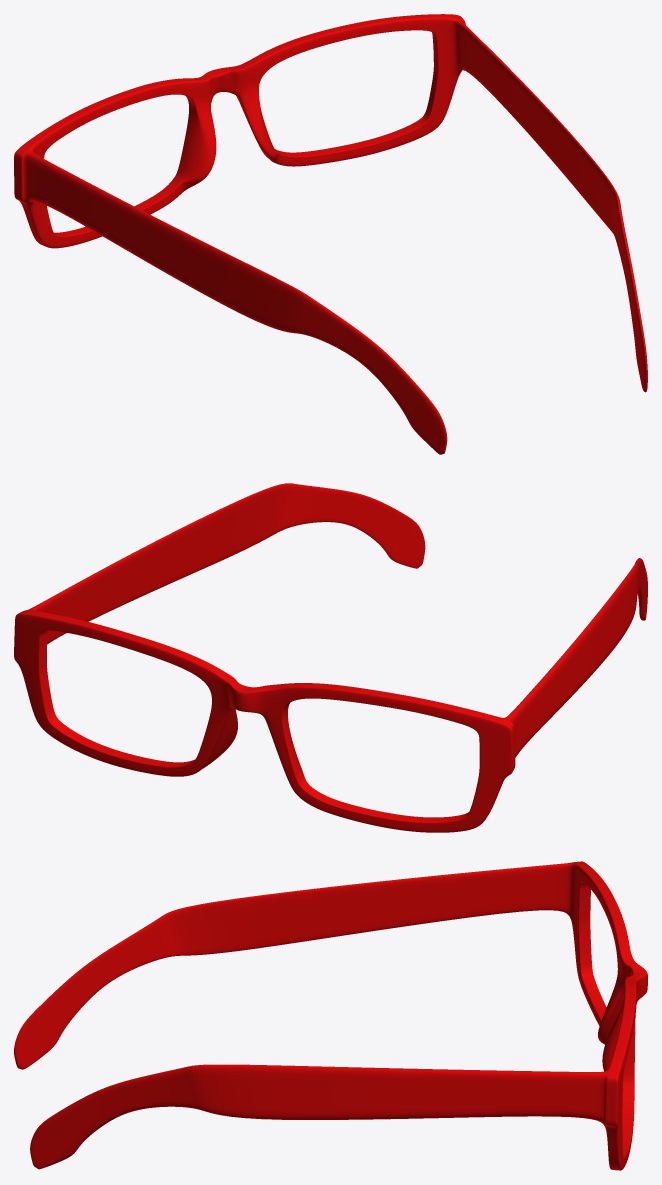
3 renders of one model, top to bottom at view 1: azimuth 30°, elevation 25°; view 2: azimuth 150°, elevation 25°; view 3: azimuth 270°, elevation 25°, orthographic. The views are drawn at different scales.
Visible parts, largest first — view 1: Glasses:glassesframeHyperNURBSCube4Cube; view 2: Glasses:glassesframeHyperNURBSCube4Cube; view 3: Glasses:glassesframeHyperNURBSCube4Cube.
Boxes of the visible parts, box(x1,y1,x2,y2) form: Glasses:glassesframeHyperNURBSCube4Cube: box(14, 14, 647, 454); Glasses:glassesframeHyperNURBSCube4Cube: box(14, 483, 647, 832); Glasses:glassesframeHyperNURBSCube4Cube: box(14, 861, 647, 1170).
Size of the model in its own units: 17.46 by 5.58 by 20.37.
